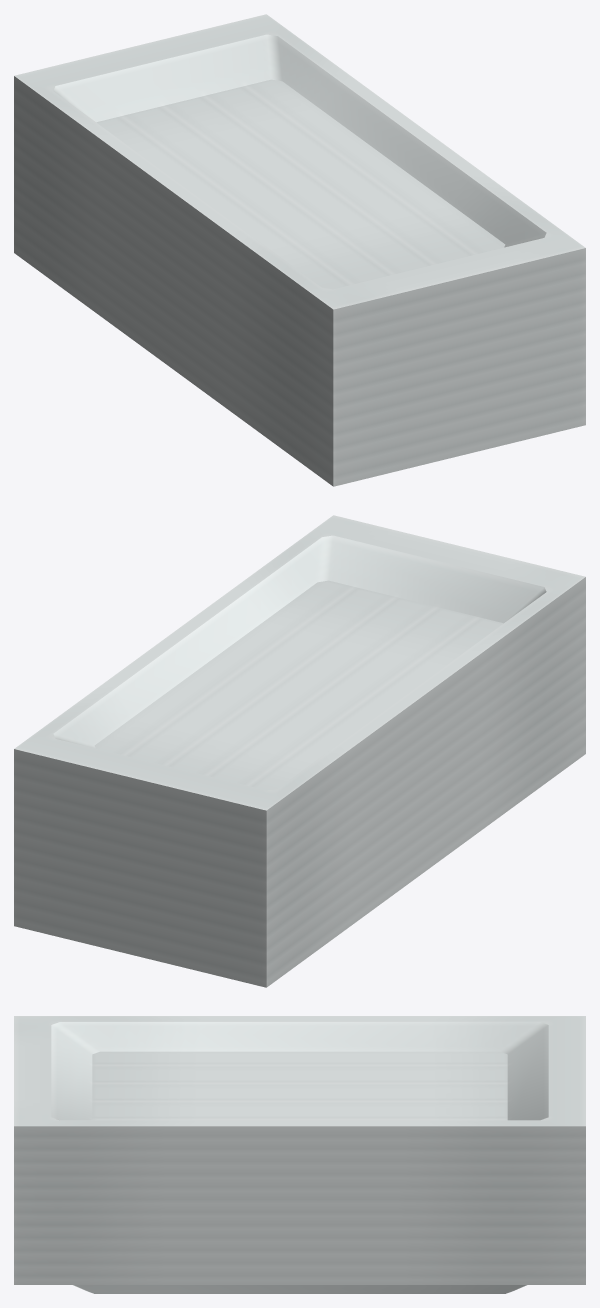
Rendered from jsf_PlasticTray_03_Set.fbx.
3 renders of one model, top to bottom at view 1: azimuth 30°, elevation 25°; view 2: azimuth 150°, elevation 25°; view 3: azimuth 270°, elevation 25°, orthographic. The views are drawn at different scales.
Parts seen in each view (by area): view 1: jsf_PlasticTray_03_Set; view 2: jsf_PlasticTray_03_Set; view 3: jsf_PlasticTray_03_Set.
Part boxes in pixels (bbox=[...]): jsf_PlasticTray_03_Set: bbox=[14, 14, 585, 486]; jsf_PlasticTray_03_Set: bbox=[14, 515, 585, 987]; jsf_PlasticTray_03_Set: bbox=[14, 1016, 585, 1293].
Bounding box in the file's own units: 13.28 × 10.2 × 29.1.
